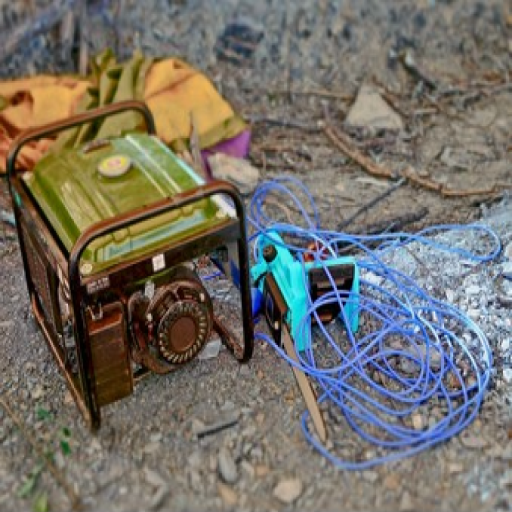portable_generator: (6, 100, 255, 426)
